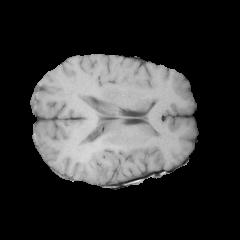glioma: (61, 102, 162, 183)
